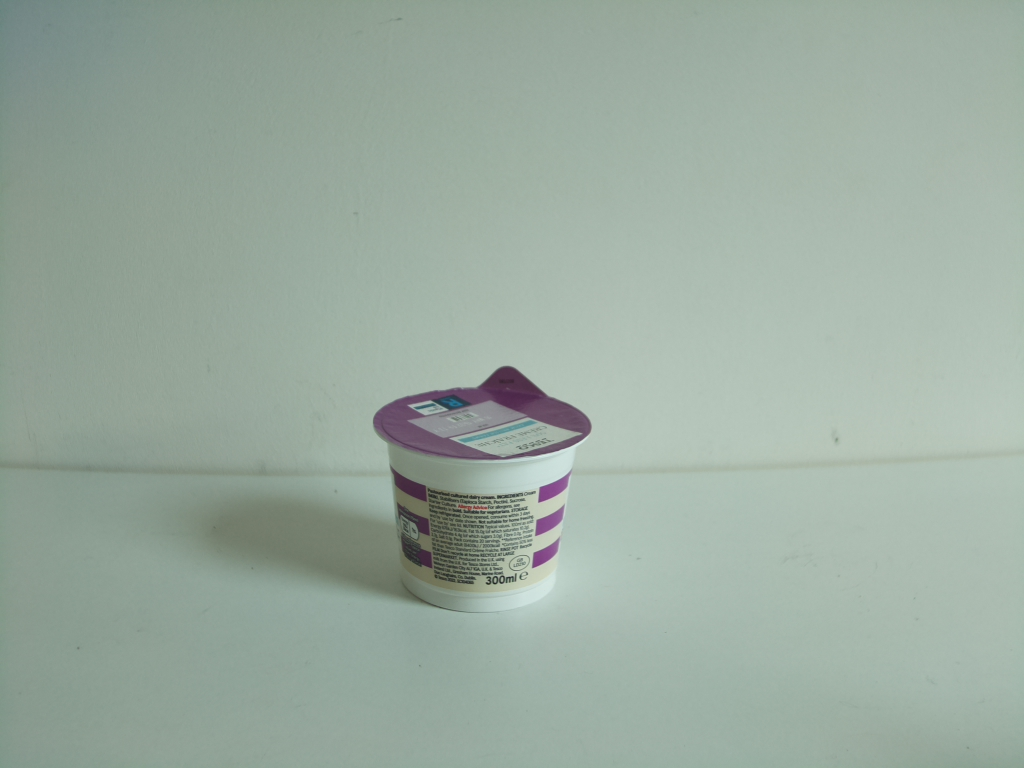cream: (375, 361, 594, 617)
